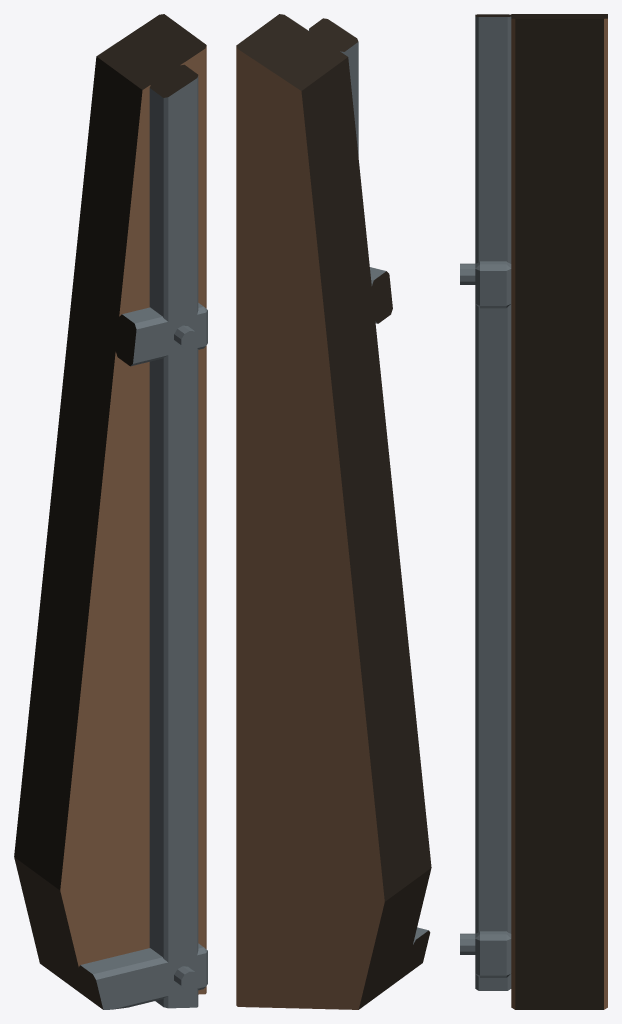
The model's file is SM_DoorShard_03_29.fbx.
3 renders of one model, left to right at view 1: azimuth 30°, elevation 25°; view 2: azimuth 150°, elevation 25°; view 3: azimuth 270°, elevation 25°, orthographic. The views are drawn at different scales.
Visible parts, largest first — view 1: SM_DoorShard_03_29; view 2: SM_DoorShard_03_29; view 3: SM_DoorShard_03_29.
Boxes of the visible parts, x1,y1,x2,y2 form: SM_DoorShard_03_29: [14, 14, 207, 1009]; SM_DoorShard_03_29: [236, 14, 431, 1009]; SM_DoorShard_03_29: [460, 14, 607, 1009].
Size of the model in its own units: 29.69 by 24.5 by 181.
